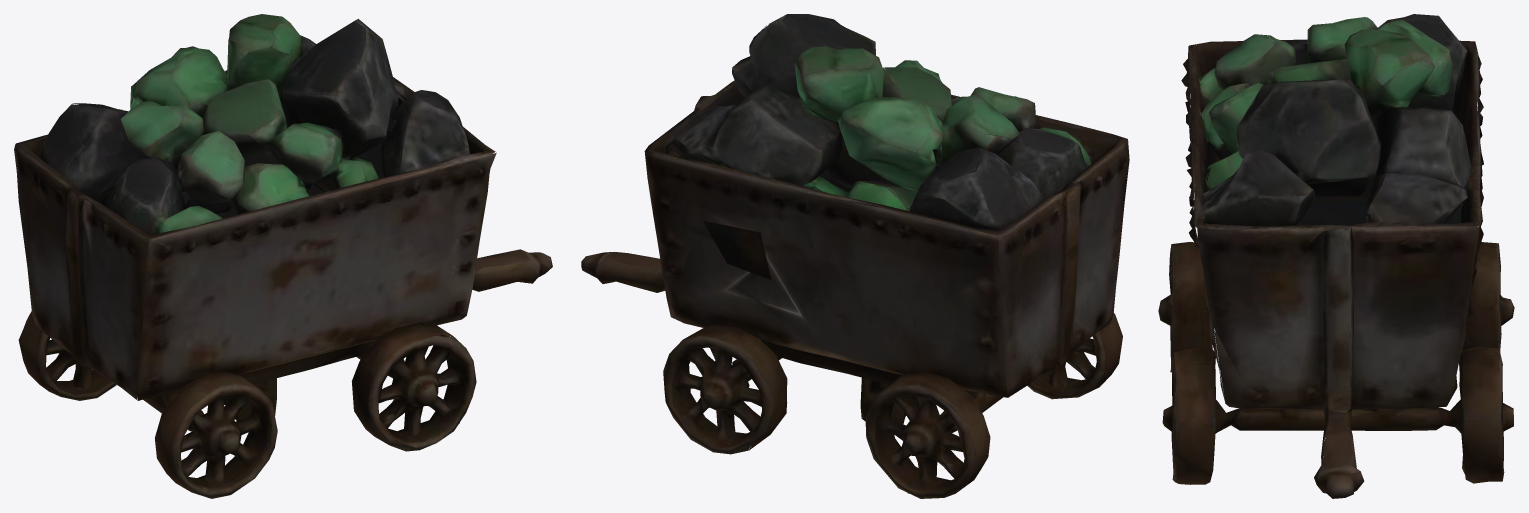
The model's file is vagoneta.glb.
3 views of the same model, side by side, from view 1: azimuth 30°, elevation 25°; view 2: azimuth 150°, elevation 25°; view 3: azimuth 270°, elevation 25° (orthographic). The views are drawn at different scales.
Parts seen in each view (by area): view 1: geometry_0; view 2: geometry_0; view 3: geometry_0.
Part boxes in pixels (x1,y1,x2,y2): geometry_0: (14, 14, 552, 498); geometry_0: (581, 14, 1129, 498); geometry_0: (1158, 14, 1514, 498).
Size of the model in its own units: 1.7 by 1.25 by 1.
1 material, 1 textured.
